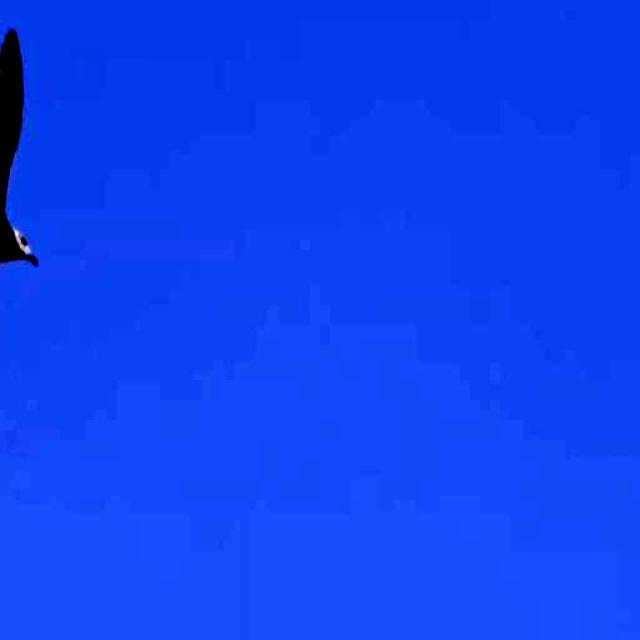airplane: (0, 10, 50, 460)
